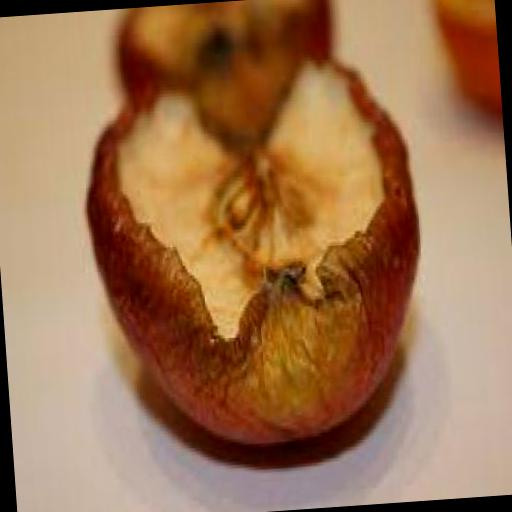biodegradable: (80, 46, 441, 460), (112, 0, 346, 147), (428, 0, 502, 129)
